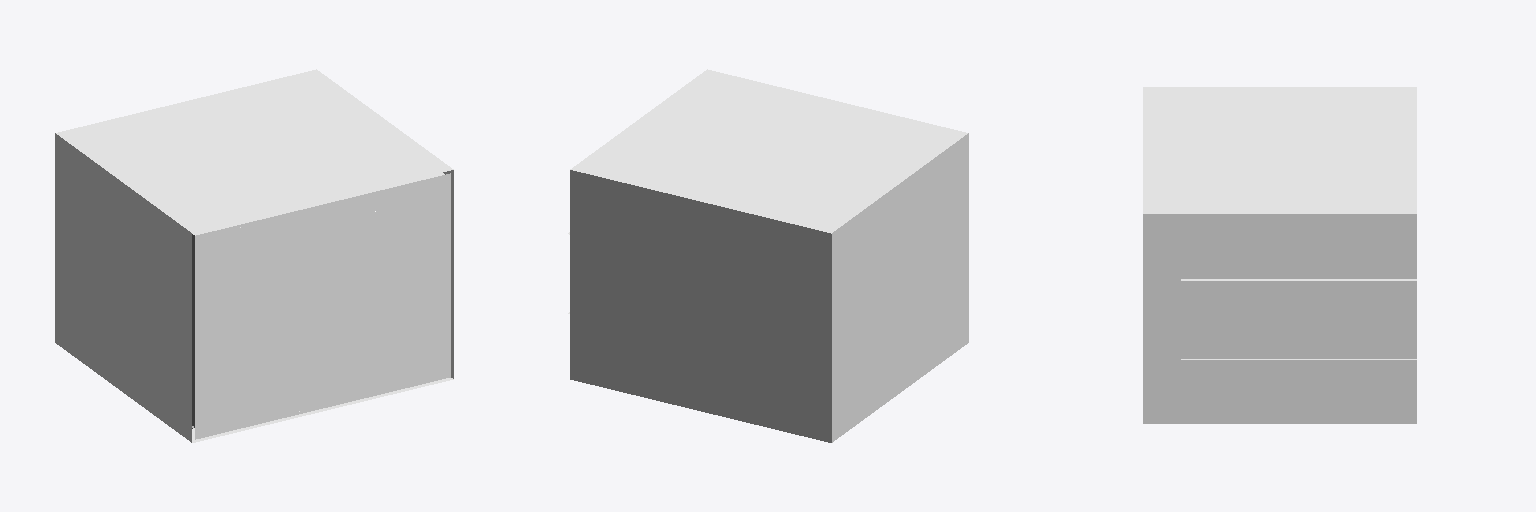
Rendered from env.obj.
3 views of the same model, side by side, from view 1: azimuth 30°, elevation 25°; view 2: azimuth 150°, elevation 25°; view 3: azimuth 270°, elevation 25° (orthographic).
Parts seen in each view (by area): view 1: refPlafond, paroix1, paroiy0, caissonx1, caissony0, caissonx0, caissony1, fauxPlafondInf; view 2: dallage, paroix1, paroiy0, caissonx1, caissony0; view 3: paroiy1, paroix1, caissony1, caissonx1.
Boxes of the visible parts, box(x1,y1,x2,y2) form: refPlafond: box(195, 173, 450, 439); paroix1: box(56, 69, 439, 223); paroiy0: box(55, 133, 178, 432); caissonx1: box(180, 160, 453, 233); caissony0: box(179, 224, 191, 442); caissonx0: box(192, 378, 453, 442); caissony1: box(443, 170, 453, 378); fauxPlafondInf: box(192, 234, 194, 428); dallage: box(570, 170, 831, 442); paroix1: box(570, 79, 954, 233); paroiy0: box(832, 144, 954, 442); caissonx1: box(695, 69, 967, 142); caissony0: box(955, 133, 968, 352); paroiy1: box(1169, 214, 1416, 423); paroix1: box(1169, 87, 1416, 213); caissony1: box(1143, 214, 1168, 423); caissonx1: box(1143, 87, 1168, 213).
Size of the model in its own units: 2.42 by 1.84 by 2.18.